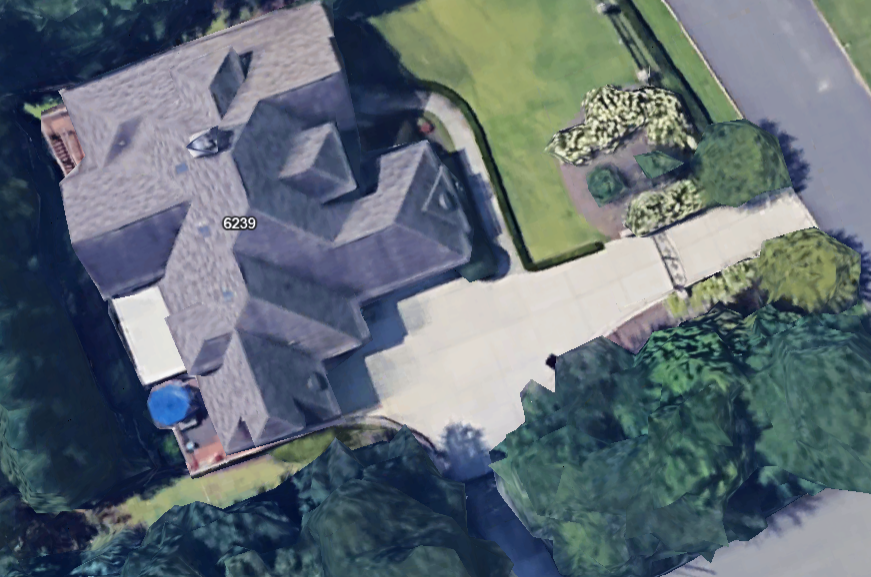driveway: (317, 143, 685, 497), (670, 178, 817, 279)
